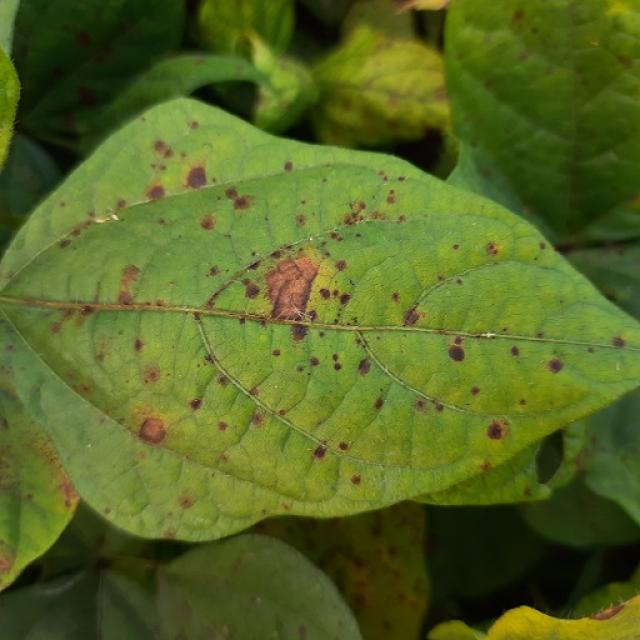Anthracnose: (7, 407, 74, 515), (132, 136, 222, 202), (263, 257, 321, 323), (55, 210, 124, 250), (307, 271, 357, 325), (52, 305, 92, 334), (116, 263, 142, 304), (184, 161, 213, 197), (137, 416, 168, 444), (341, 201, 371, 227), (235, 34, 257, 61), (589, 603, 623, 620), (185, 165, 207, 190), (573, 443, 590, 473), (152, 139, 173, 159), (402, 307, 421, 327), (290, 322, 309, 342), (486, 421, 505, 440), (77, 87, 96, 106), (232, 195, 254, 211), (0, 550, 13, 576), (447, 344, 465, 362), (546, 357, 564, 374), (199, 214, 217, 231), (147, 185, 166, 201), (178, 598, 193, 618), (244, 282, 261, 299), (143, 367, 161, 383), (250, 410, 266, 428), (76, 31, 92, 49), (357, 358, 372, 376), (331, 353, 343, 371), (179, 495, 194, 509), (313, 444, 327, 458), (486, 242, 500, 256), (225, 187, 239, 200), (49, 321, 62, 335), (133, 338, 145, 353), (612, 336, 626, 348), (206, 265, 220, 277), (297, 623, 307, 639), (190, 397, 202, 410), (339, 293, 351, 306), (295, 214, 307, 227), (513, 10, 525, 23), (386, 191, 397, 205), (510, 345, 521, 357), (319, 288, 331, 299), (335, 260, 347, 271), (306, 309, 317, 321), (164, 528, 176, 539), (374, 397, 384, 410), (58, 239, 71, 249), (80, 305, 94, 314), (309, 356, 320, 367), (350, 474, 361, 485), (283, 161, 293, 172), (344, 318, 356, 327), (470, 386, 480, 396), (252, 596, 262, 606), (338, 442, 349, 451), (391, 292, 400, 302), (189, 121, 199, 130), (5, 343, 15, 352), (272, 349, 281, 357), (452, 244, 460, 251), (587, 346, 595, 353), (519, 398, 526, 405)
Blackgram: (0, 100, 639, 580)
